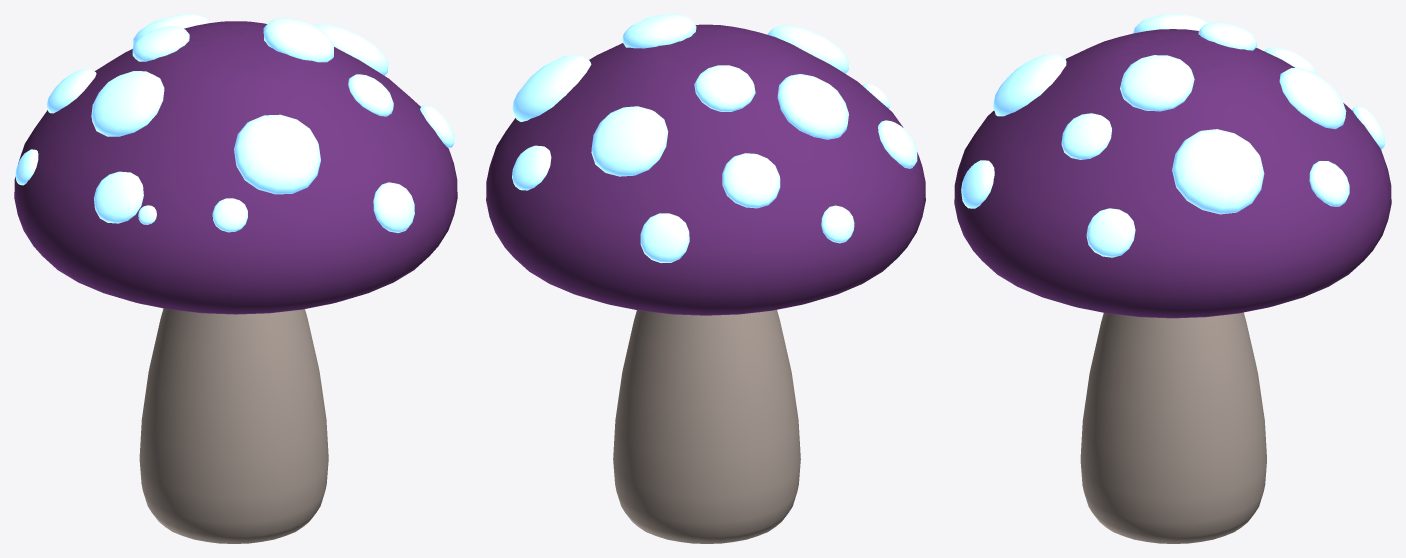
File: Гриб-Свет1+_UV+_Запёкшийся.fbx
The picture shows the model from 3 angles, left to right: view 1: azimuth 30°, elevation 25°; view 2: azimuth 150°, elevation 25°; view 3: azimuth 270°, elevation 25°; orthographic projection.
Visible parts, largest first — view 1: Mushroom light1; view 2: Mushroom light1; view 3: Mushroom light1.
Part boxes in pixels (x1,y1,x2,y2): Mushroom light1: [14, 14, 457, 543]; Mushroom light1: [486, 14, 925, 543]; Mushroom light1: [954, 14, 1391, 543].
Size of the model in its own units: 239 by 291 by 239.
1 material, 1 textured.
